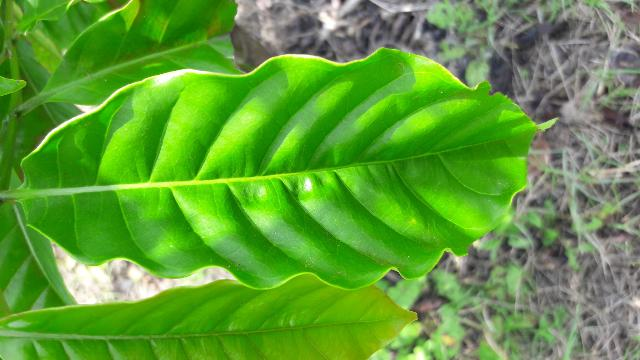healthy: (24, 56, 529, 283)
